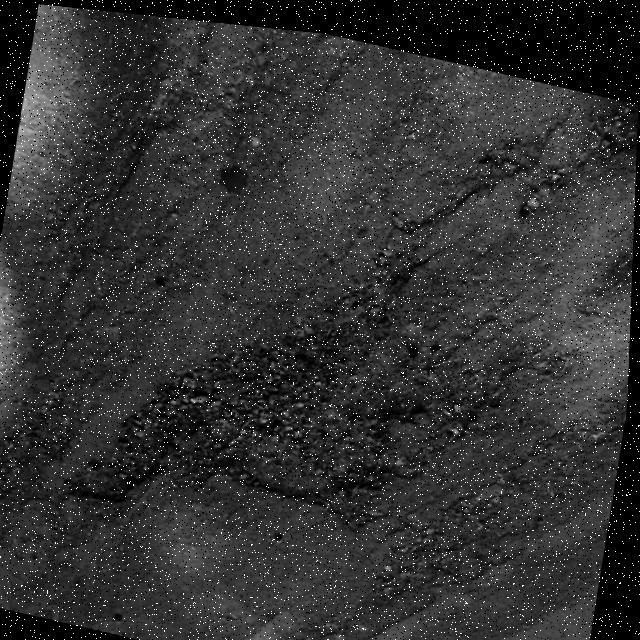pothole: (59, 228, 512, 584)
